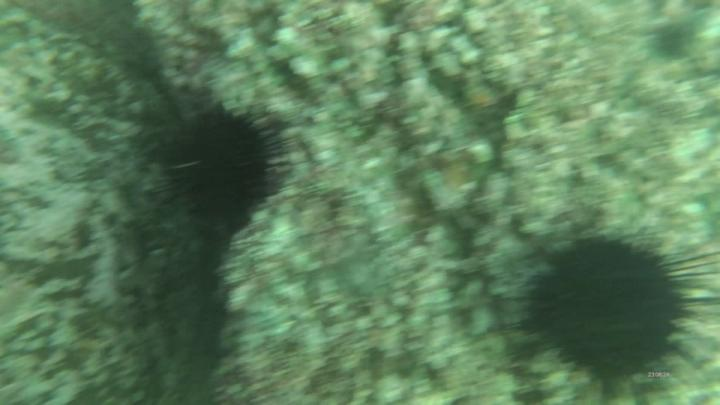echinus: (524, 232, 687, 385), (164, 103, 280, 237)
